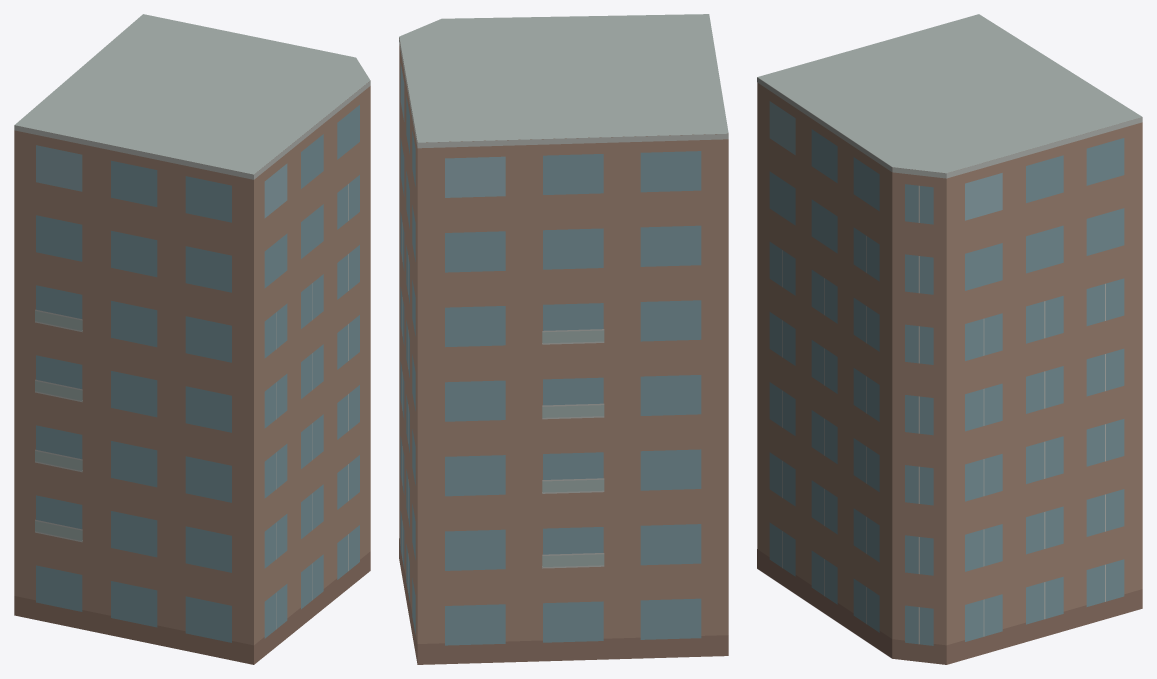
The model's file is survey-upis-32886467.glb.
The picture shows the model from 3 angles, left to right: view 1: azimuth 30°, elevation 25°; view 2: azimuth 150°, elevation 25°; view 3: azimuth 270°, elevation 25°; orthographic projection. The views are drawn at different scales.
Visible parts, largest first — view 1: survey-upis-32886467.tmp; view 2: survey-upis-32886467.tmp; view 3: survey-upis-32886467.tmp.
Part boxes in pixels (box(x1,y1,x2,y2)): survey-upis-32886467.tmp: box(14, 14, 370, 664); survey-upis-32886467.tmp: box(399, 14, 728, 664); survey-upis-32886467.tmp: box(757, 14, 1142, 664).
Size of the model in its own units: 15.87 by 22.82 by 16.23.
